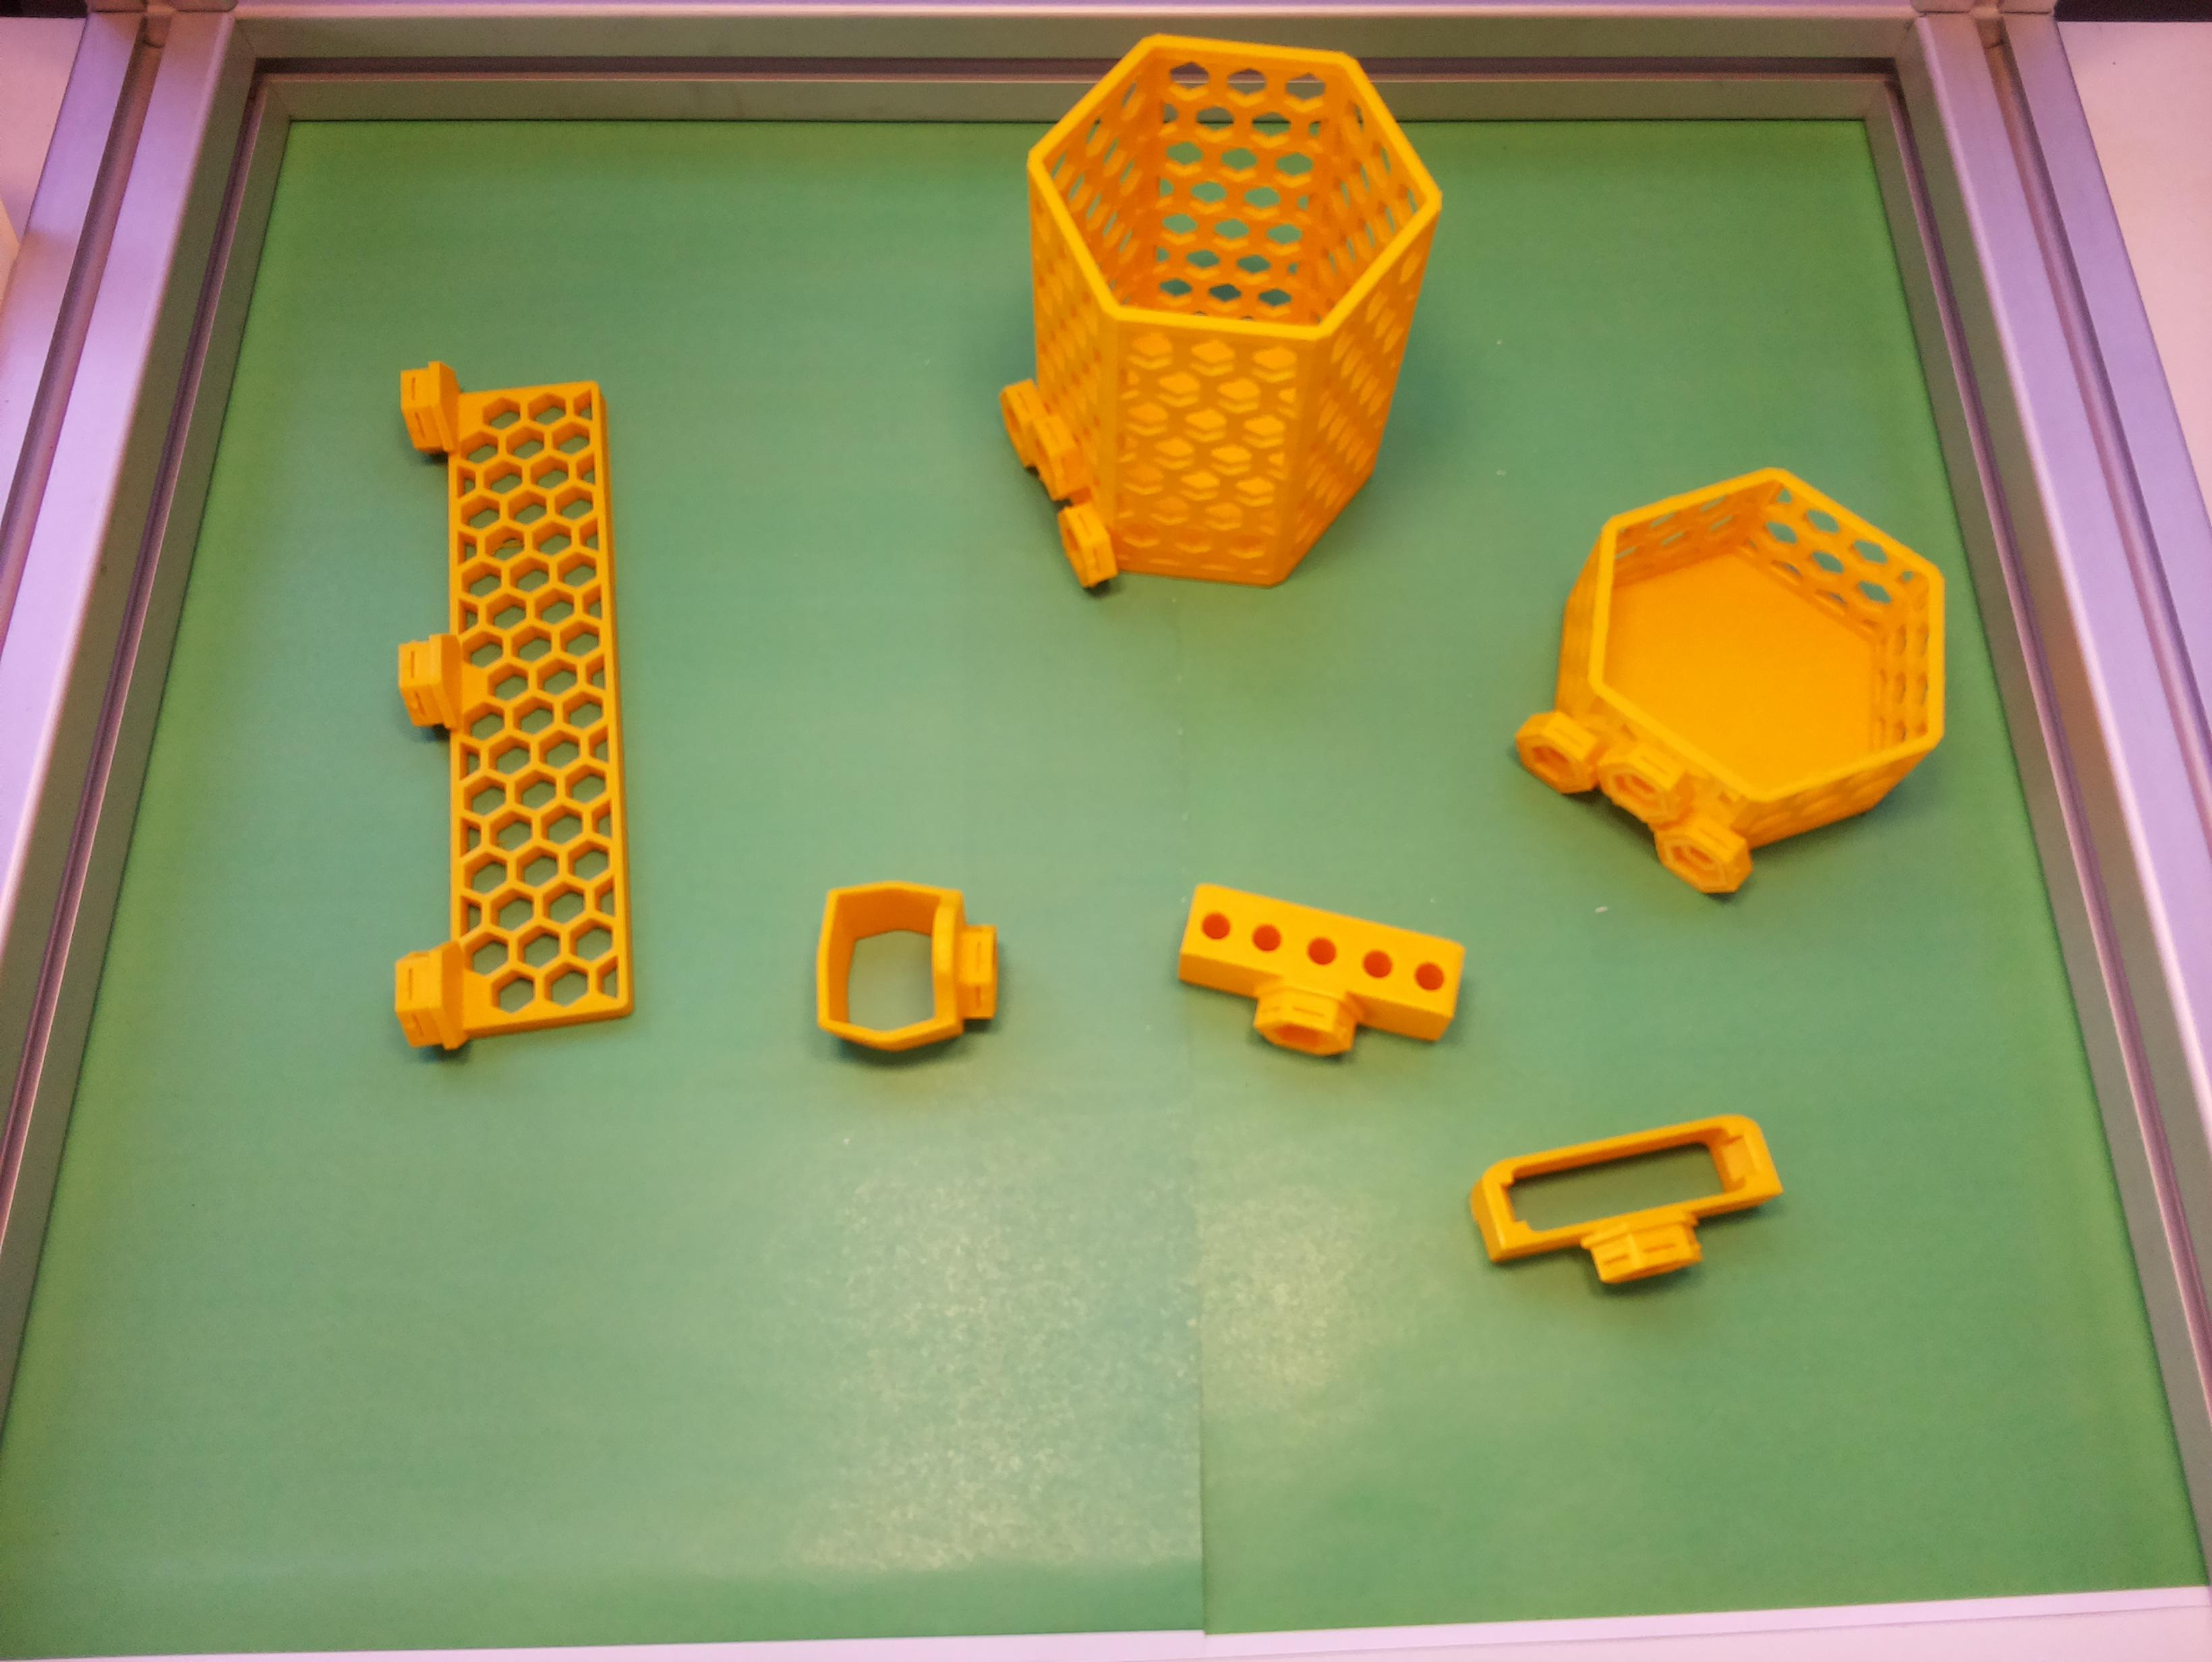bit_holder: (1163, 880, 1472, 1086)
bottle_holder: (1468, 405, 2016, 955)
cup_holder: (985, 23, 1454, 616)
cutter_holder: (1463, 1109, 1793, 1309)
scissor_holder: (819, 882, 997, 1051)
tool_holder: (396, 361, 634, 1051)
